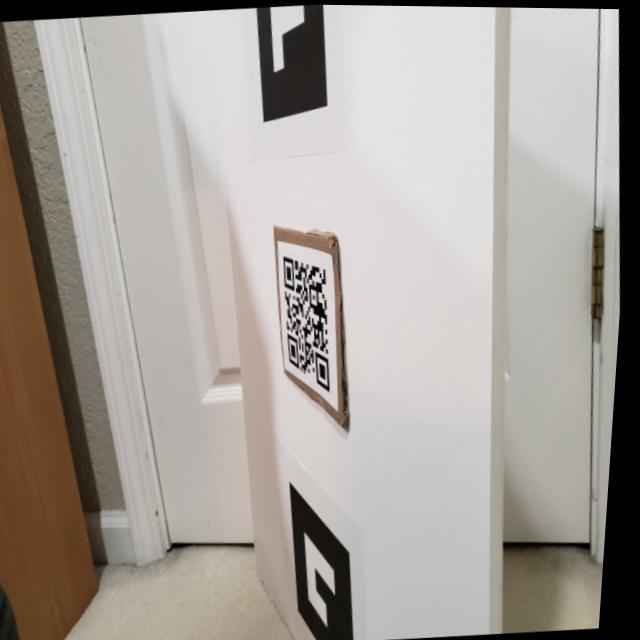QR_CODE: (272, 242, 356, 406)
